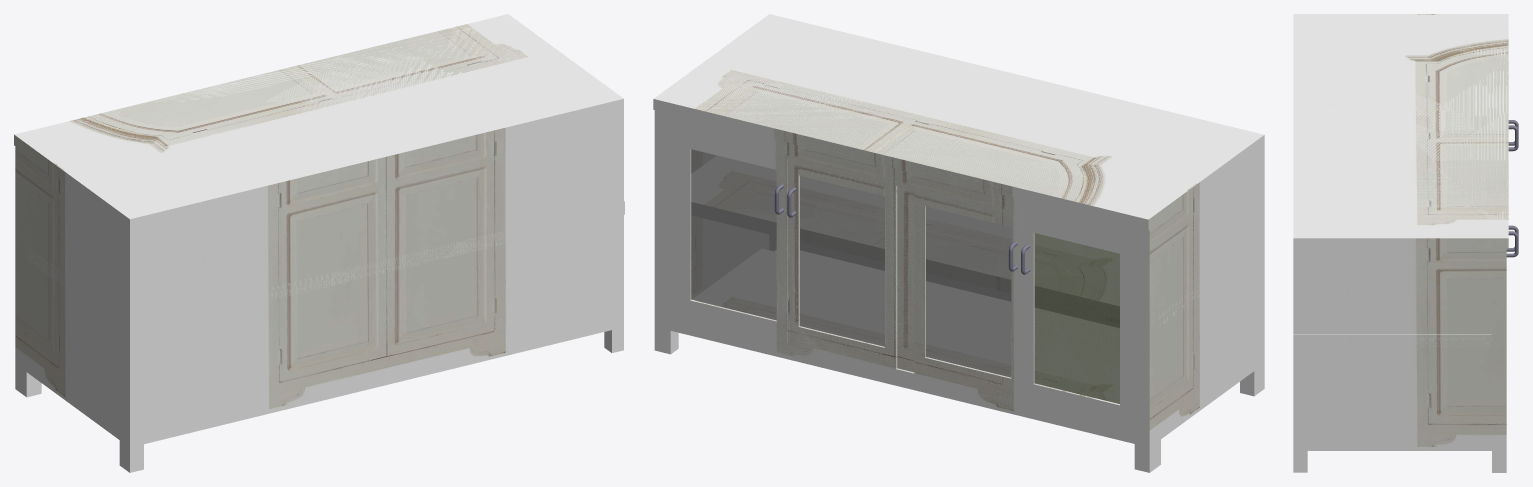
The picture shows the model from 3 angles, left to right: view 1: azimuth 30°, elevation 25°; view 2: azimuth 150°, elevation 25°; view 3: azimuth 270°, elevation 25°; orthographic projection. The views are drawn at different scales.
Parts seen in each view (by area): view 1: mesh4_mesh4-geometry; view 2: mesh4_mesh4-geometry, mesh1_mesh1-geometry; view 3: mesh4_mesh4-geometry, mesh1_mesh1-geometry.
Part boxes in pixels (bbox=[...]): mesh4_mesh4-geometry: bbox=[14, 14, 624, 472]; mesh4_mesh4-geometry: bbox=[653, 14, 1264, 472]; mesh1_mesh1-geometry: bbox=[774, 184, 1030, 274]; mesh4_mesh4-geometry: bbox=[1293, 14, 1508, 472]; mesh1_mesh1-geometry: bbox=[1506, 120, 1518, 257].
Bounding box in the file's own units: 0.5913 × 0.2896 × 0.2507.
